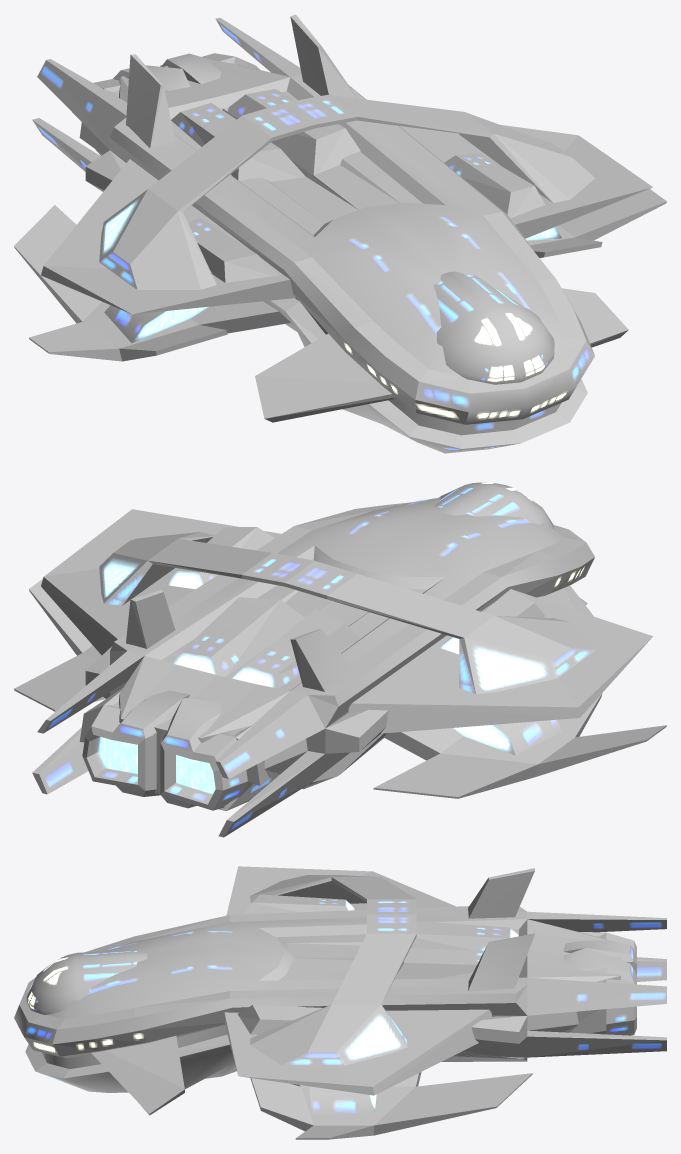
Rendered from astraHeavyCruiser.FBX.
The picture shows the model from 3 angles, top to bottom: view 1: azimuth 30°, elevation 25°; view 2: azimuth 150°, elevation 25°; view 3: azimuth 270°, elevation 25°; orthographic projection. The views are drawn at different scales.
Visible parts, largest first — view 1: AstraHeavyCruiser01; view 2: AstraHeavyCruiser01; view 3: AstraHeavyCruiser01.
Boxes of the visible parts, left/top/right/bottom form: AstraHeavyCruiser01: left=14, top=14, right=666, bottom=453; AstraHeavyCruiser01: left=14, top=482, right=666, bottom=837; AstraHeavyCruiser01: left=14, top=866, right=666, bottom=1139.
Bounding box in the file's own units: 0.9444 × 1.05 × 0.3125.
